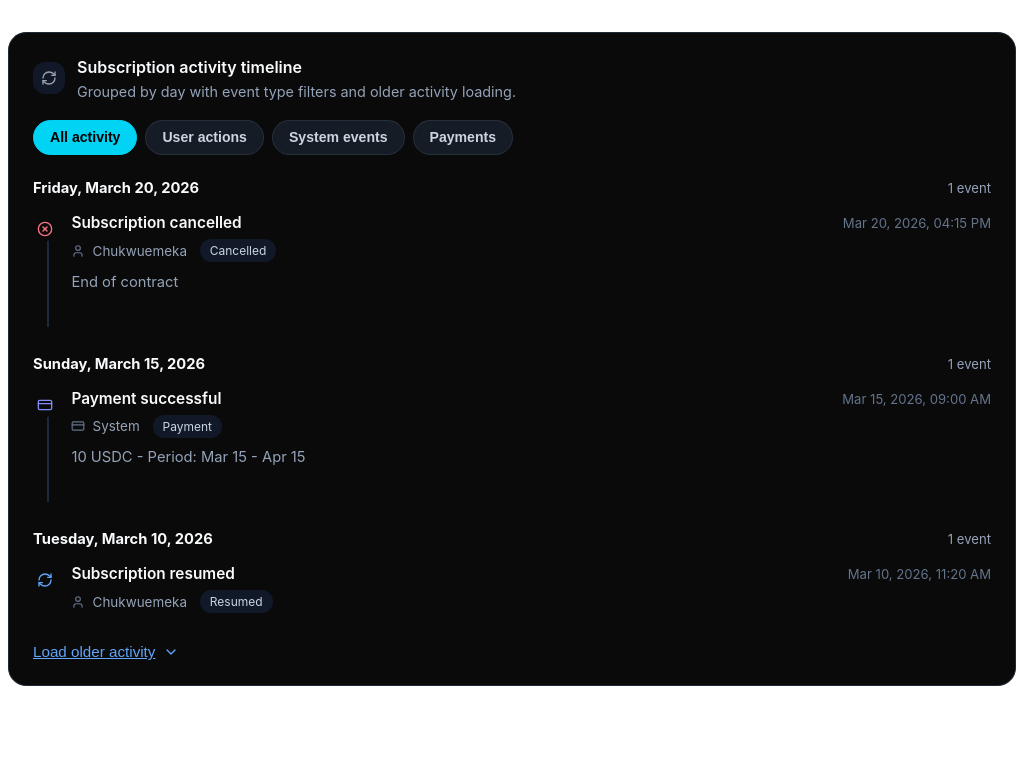
Test: PlanStatusTimeline › filters to payment events only
Click the button "Payments". click: (463, 137)
box: [412,120,513,155]
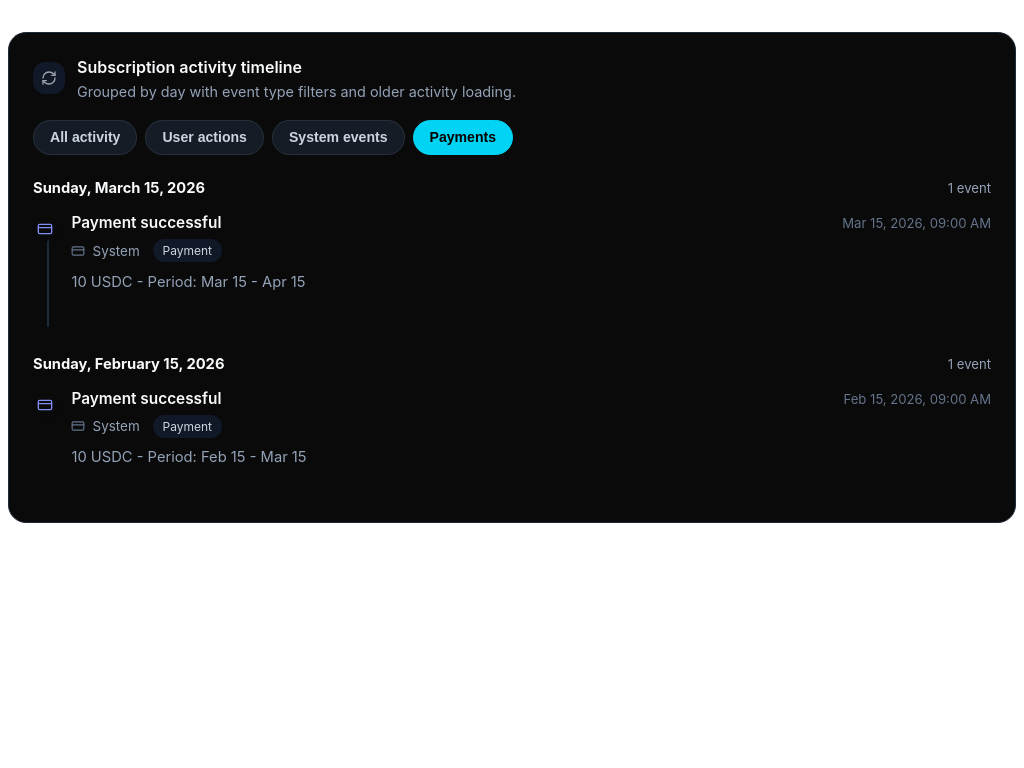
Now the text "Payment successful" is shown 2 times, box [71,213,222,232]; [71,389,222,408]
